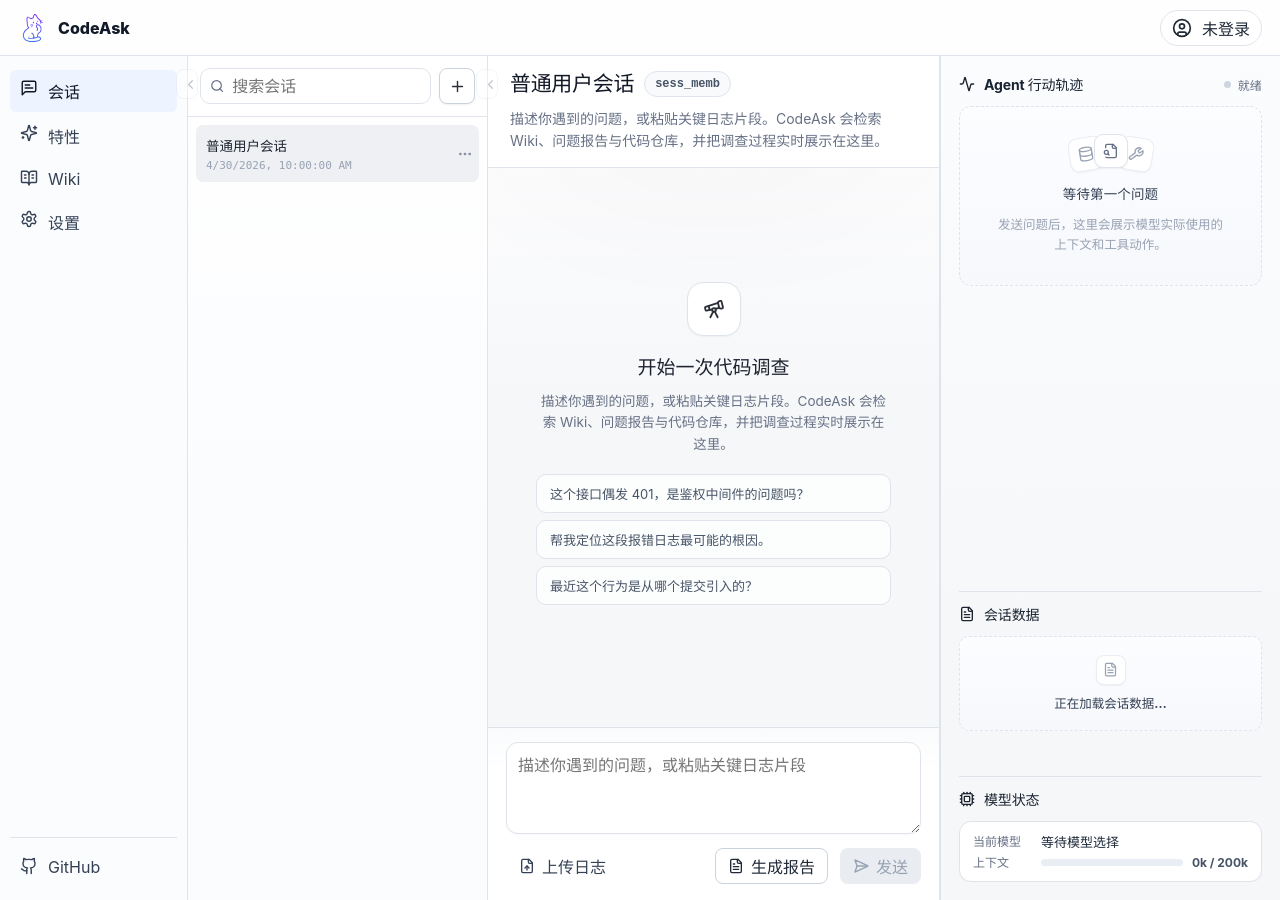
SettingsPage LLM configuration › refreshes session data after admin login switches the current subject
The image size is (1280, 900).
Click the button "未登录" at (1211, 28), box [1160, 10, 1262, 46]
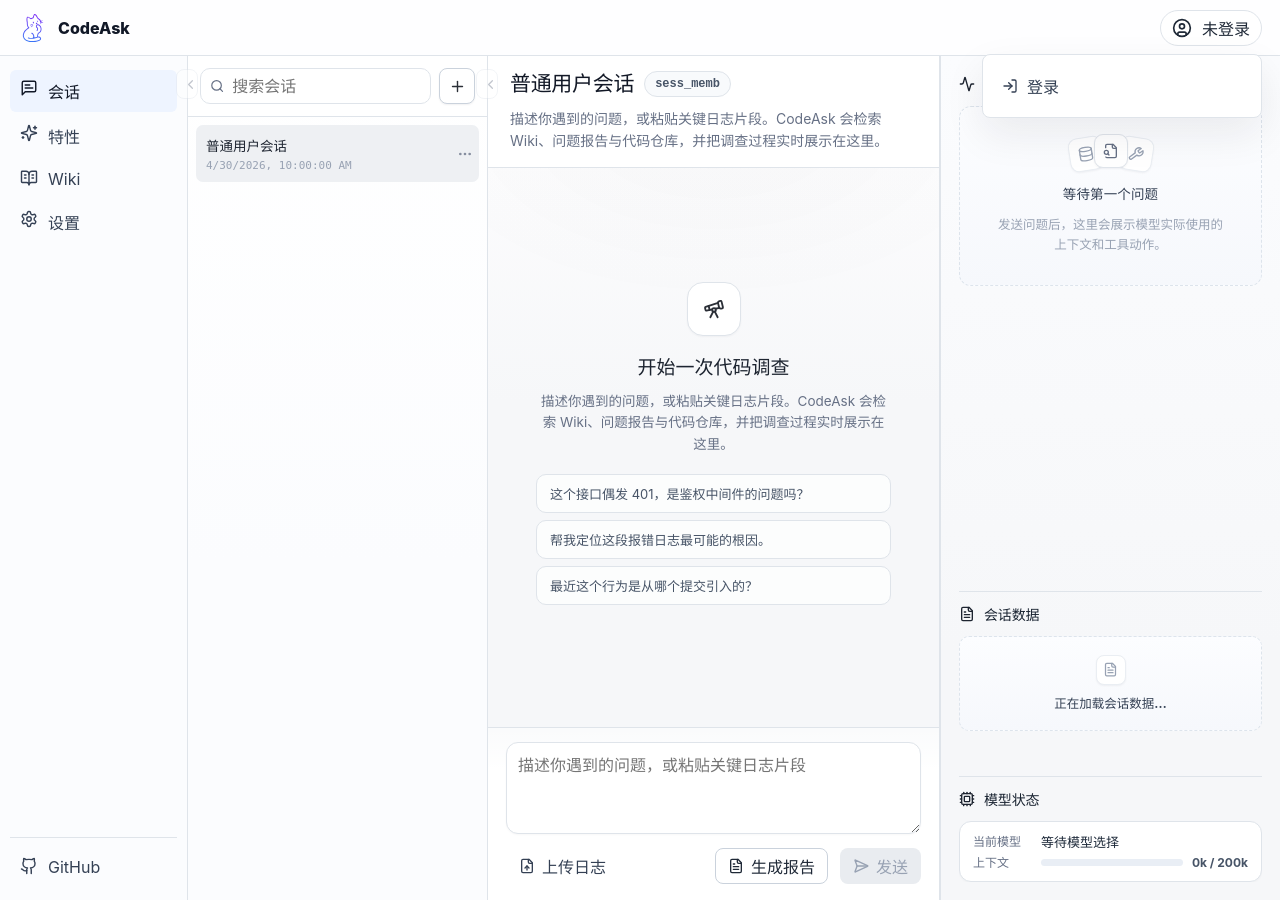
Click the menu item "登录" at (1122, 86), box [993, 64, 1251, 106]
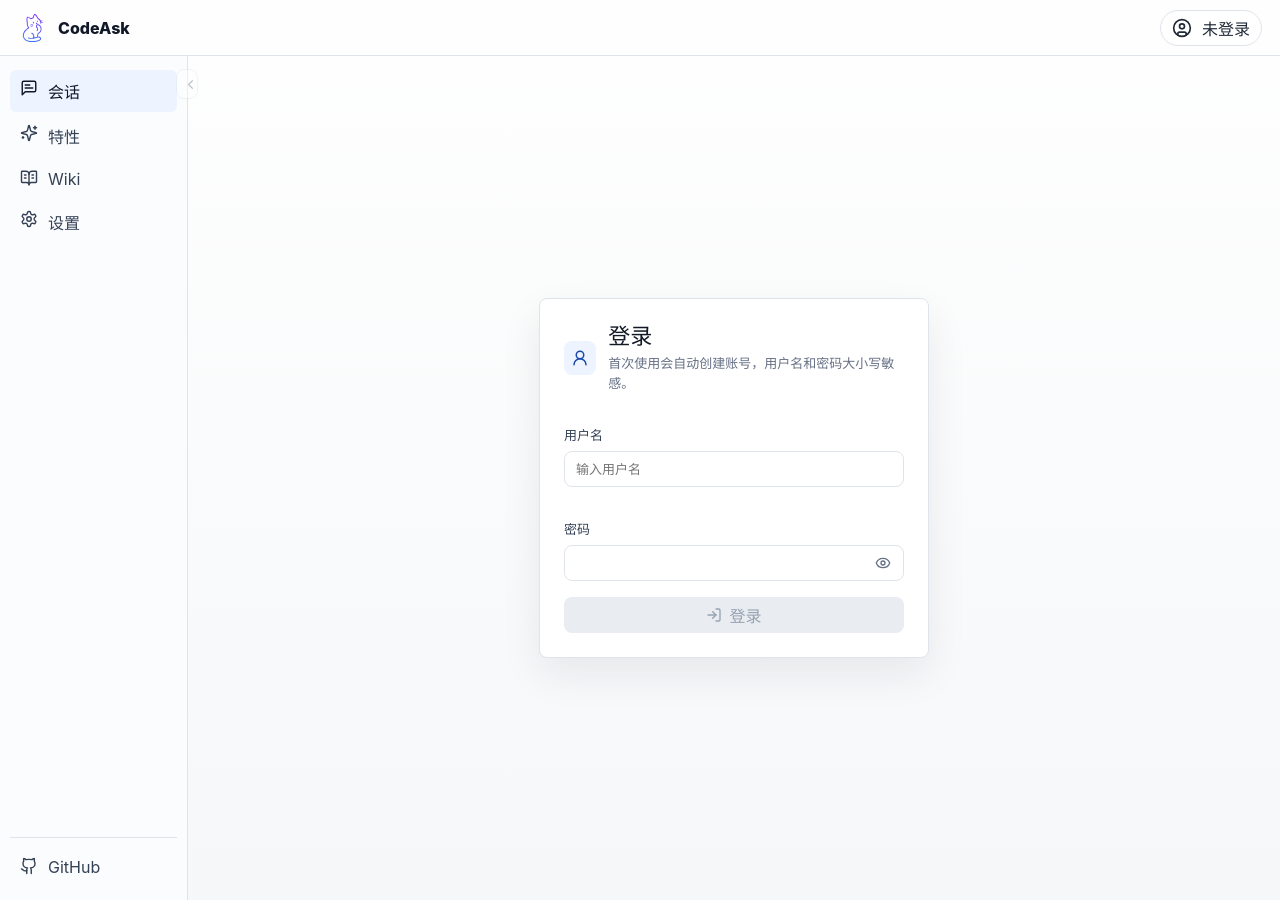
Type "admin" into the field labelled "用户名" at (734, 469), box [564, 451, 904, 487]
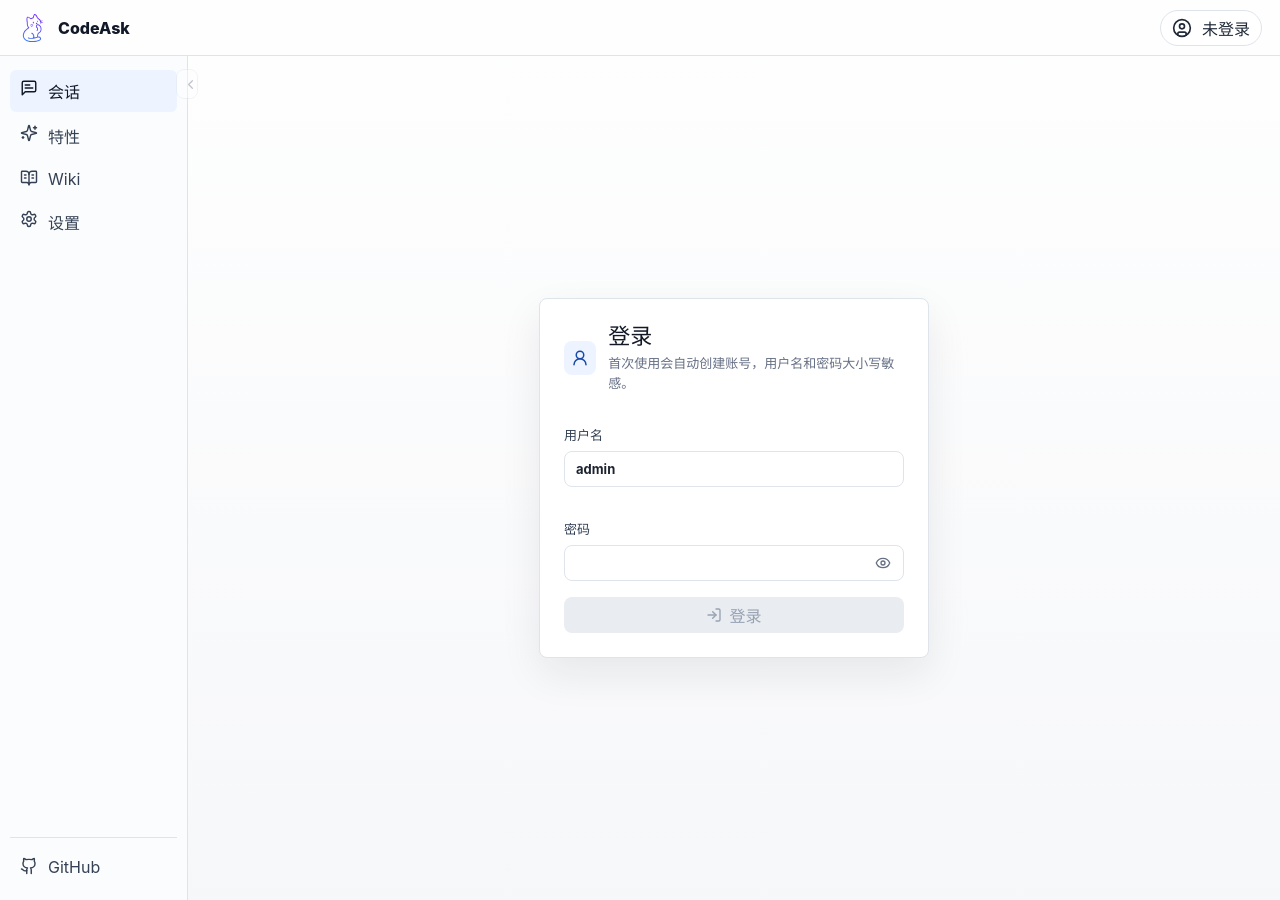
Type "admin" into the password field labelled "密码" at (734, 563), box [564, 545, 904, 581]
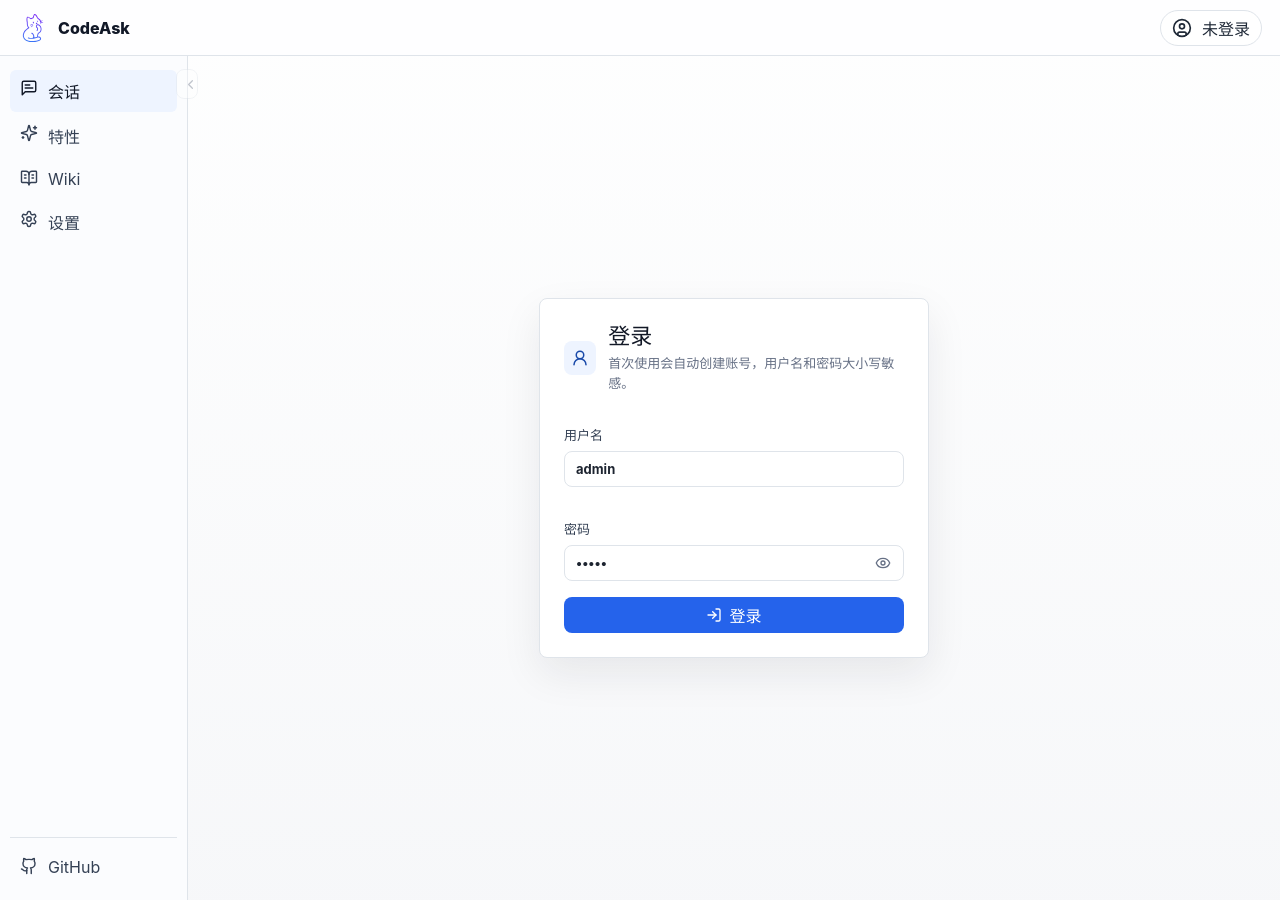
Click the button "登录" at (734, 615), box [564, 597, 904, 633]
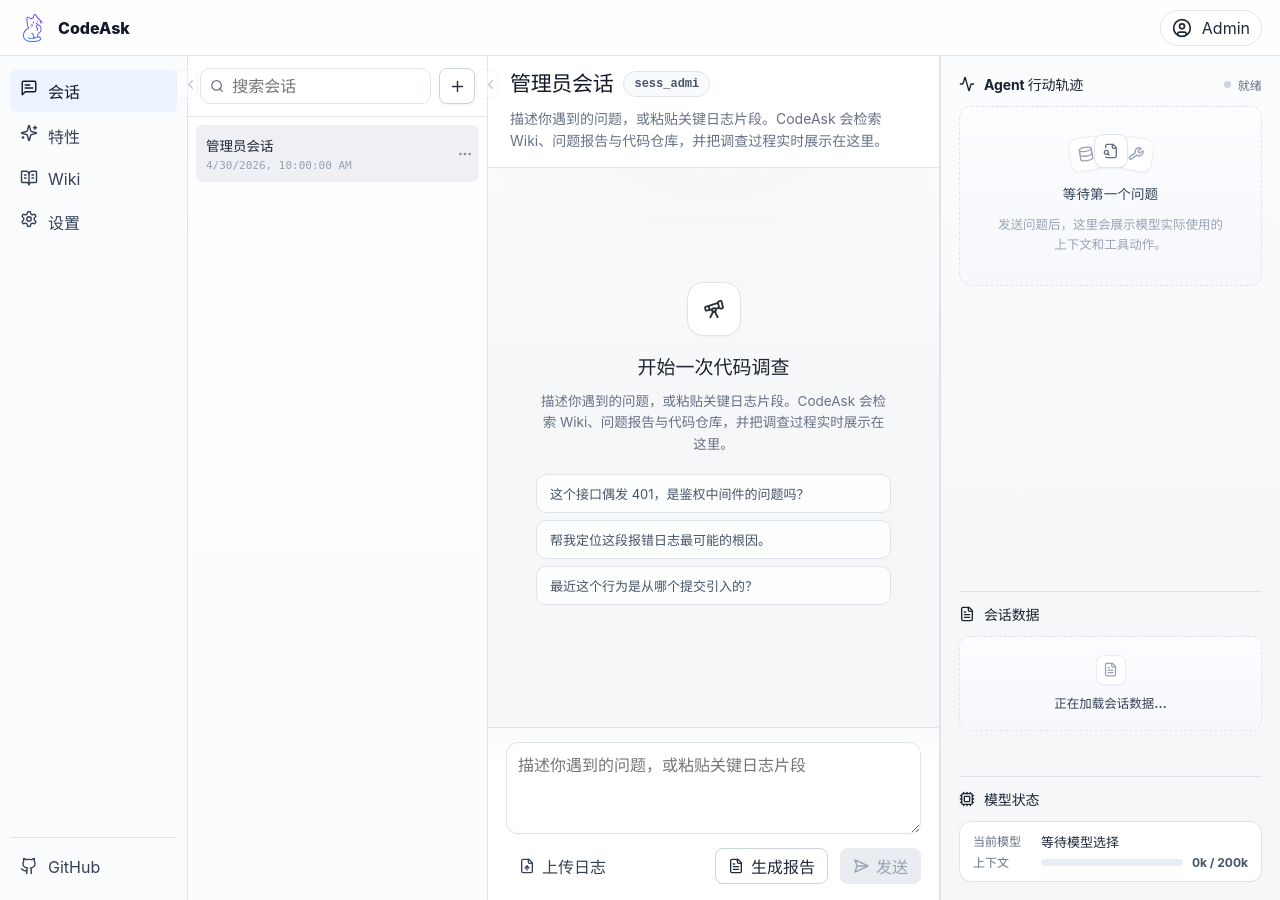
Check: the button "Admin" is shown, box [1160, 10, 1262, 46]
